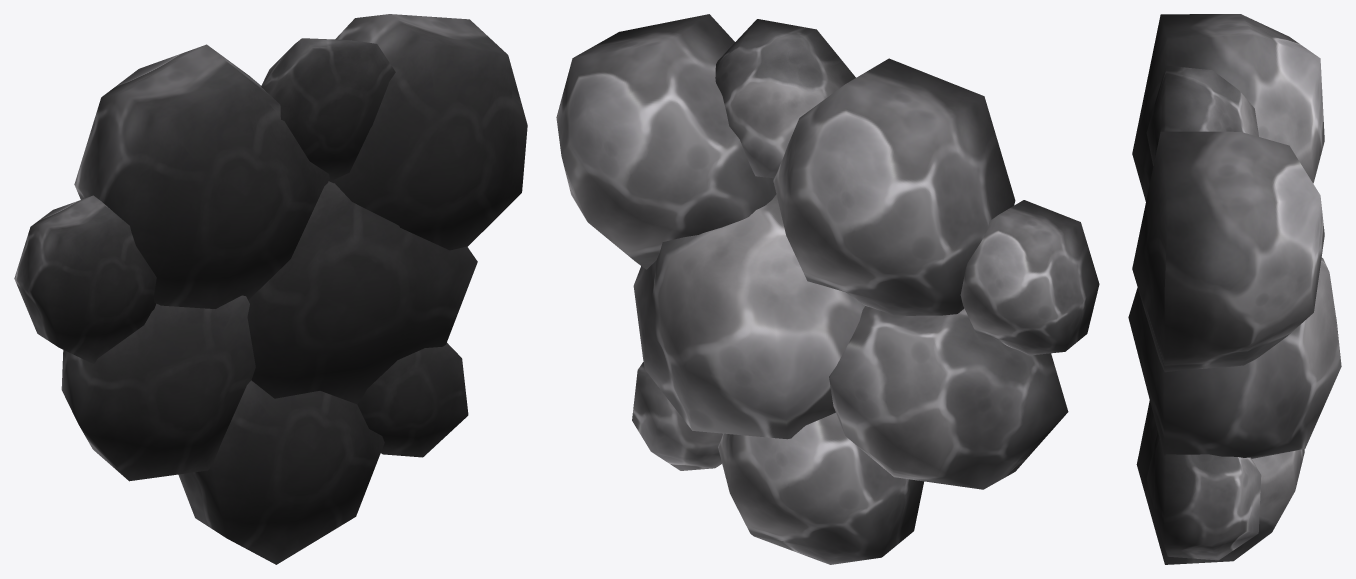
The model's file is Rocks_a.fbx.
3 renders of one model, left to right at view 1: azimuth 30°, elevation 25°; view 2: azimuth 150°, elevation 25°; view 3: azimuth 270°, elevation 25°, orthographic. The views are drawn at different scales.
Visible parts, largest first — view 1: Rocks_a; view 2: Rocks_a; view 3: Rocks_a.
Boxes of the visible parts, x1,y1,x2,y2 form: Rocks_a: (14,14,527,564); Rocks_a: (556,14,1099,564); Rocks_a: (1128,14,1341,564).
Size of the model in its own units: 84.24 by 83.4 by 31.54.
